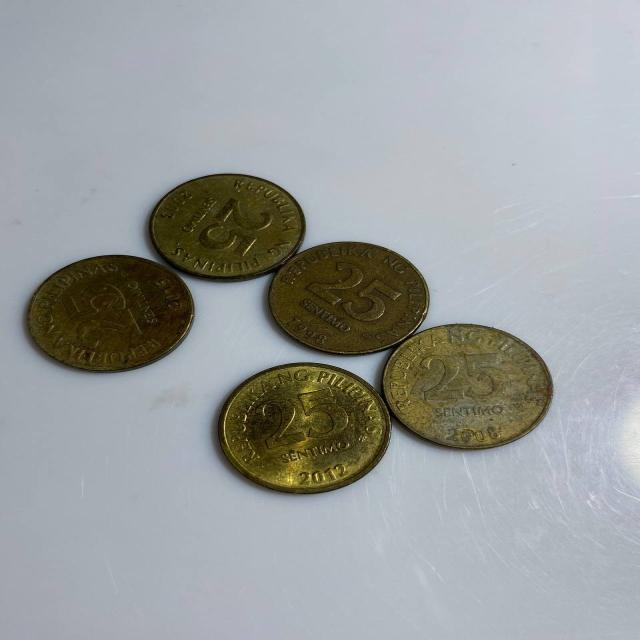25Cent_Old_Front: (308, 263, 403, 327), (257, 386, 352, 446), (197, 199, 287, 260), (58, 287, 150, 344), (420, 354, 524, 404)
